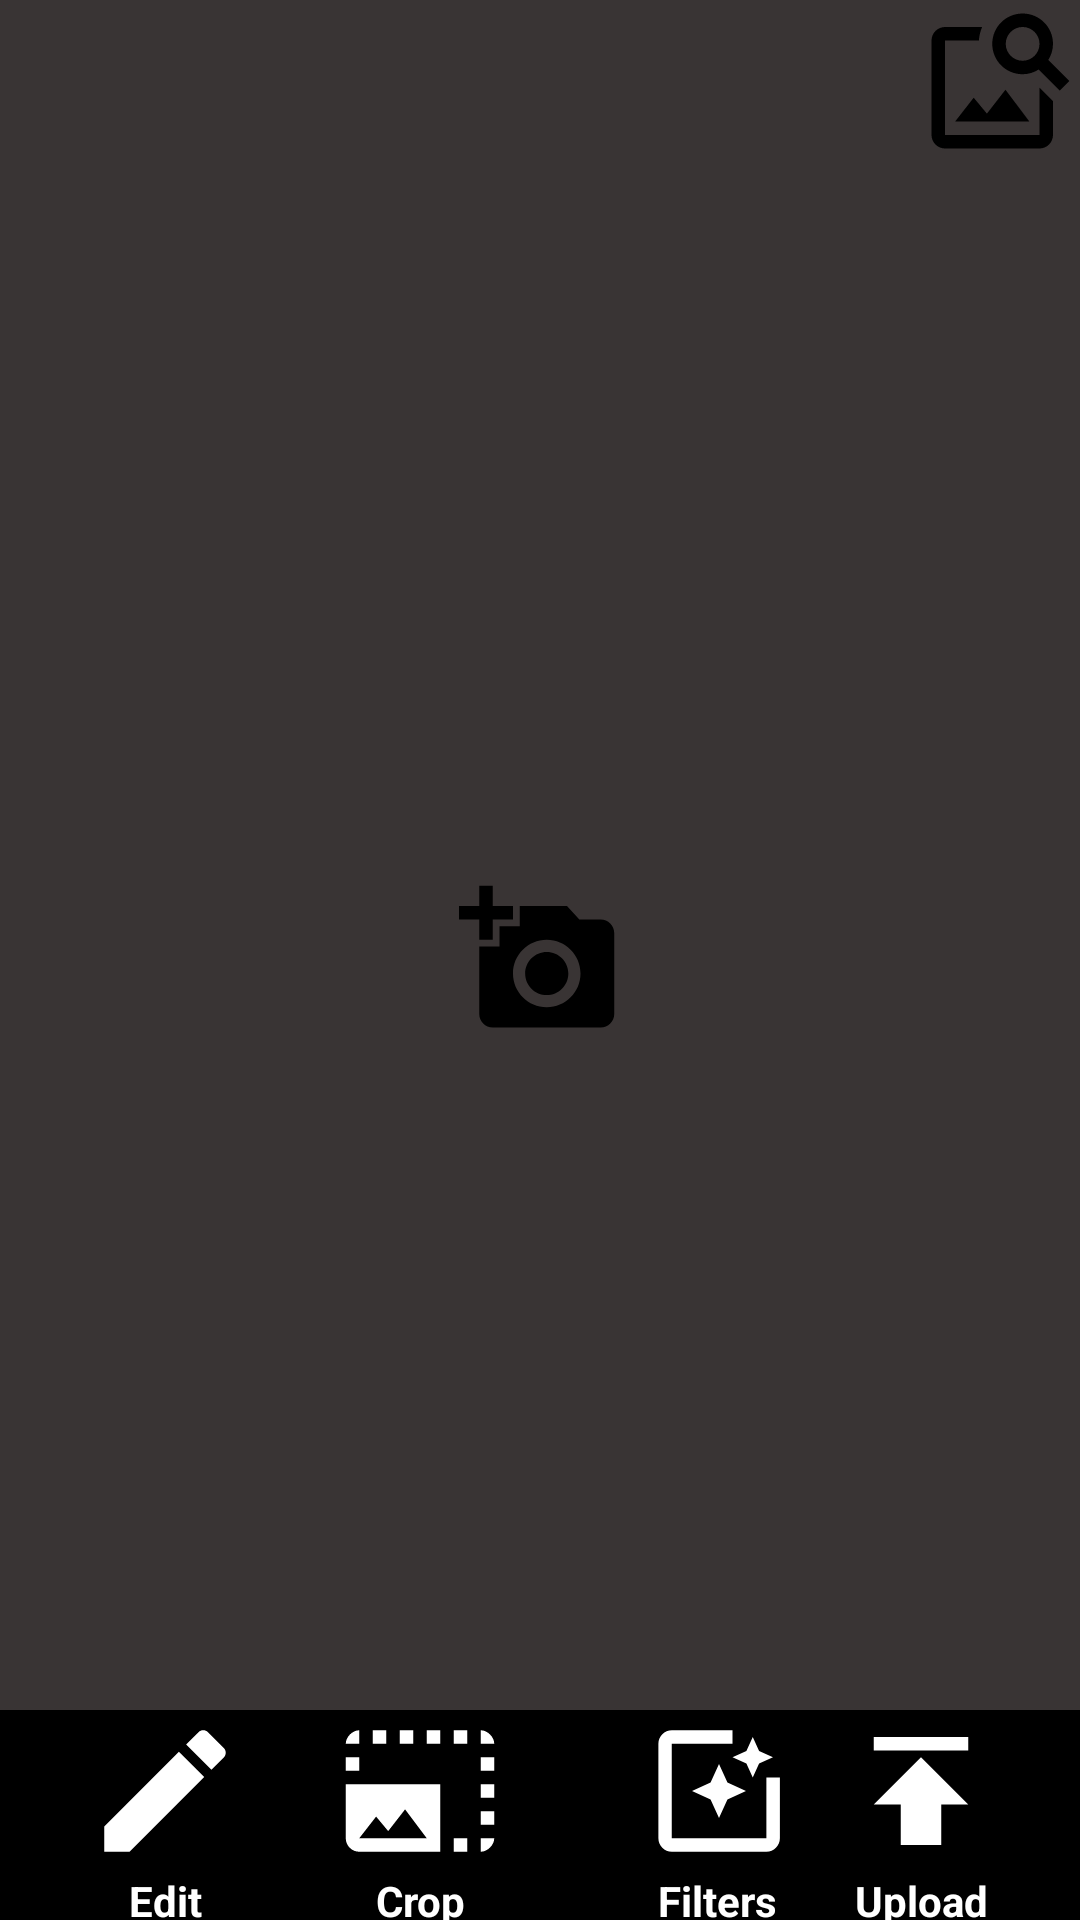

Named icons in this screenshot (1080 x 1920) and their bounding boxes, bbox=[x1, y1, x2, y2]:
picker: bbox=[459, 886, 614, 1028]
